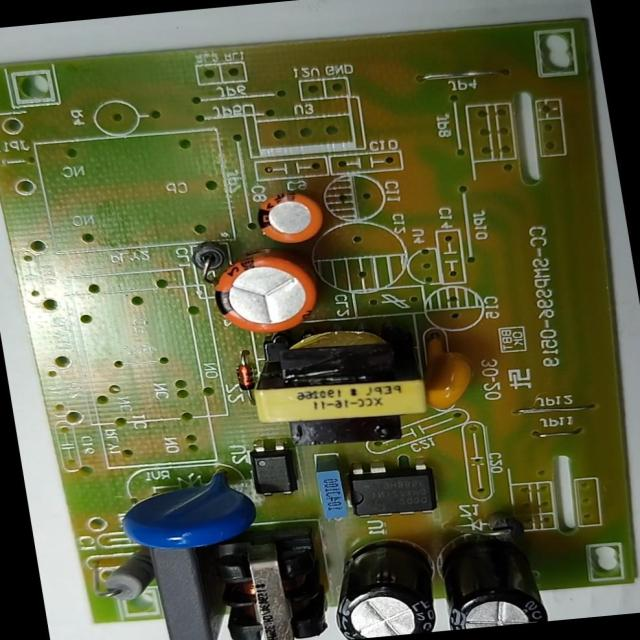Cap1: (206, 245, 324, 339)
Cap2: (250, 186, 328, 248)
Cap3: (324, 536, 442, 640)
Cap4: (429, 523, 549, 630)
MOSFET: (342, 459, 438, 521)
Mov: (113, 468, 258, 555)
Resistor: (97, 550, 159, 604)
Transformer: (245, 322, 440, 455), (203, 524, 332, 640)
